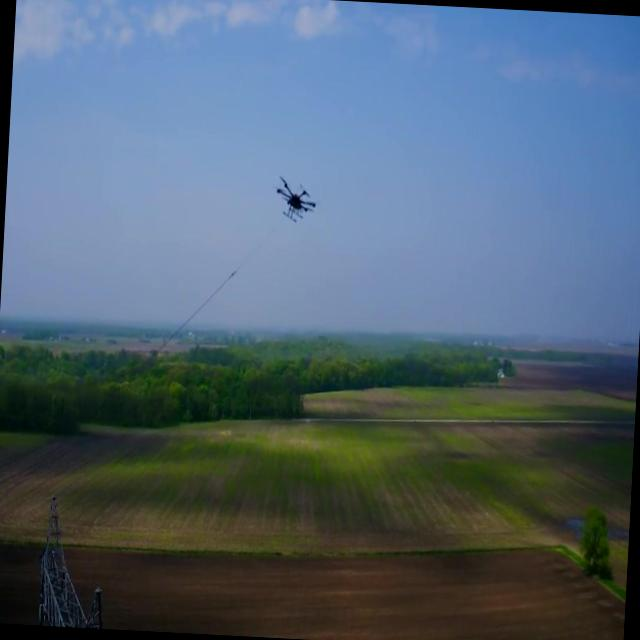drone: (275, 176, 318, 226)
